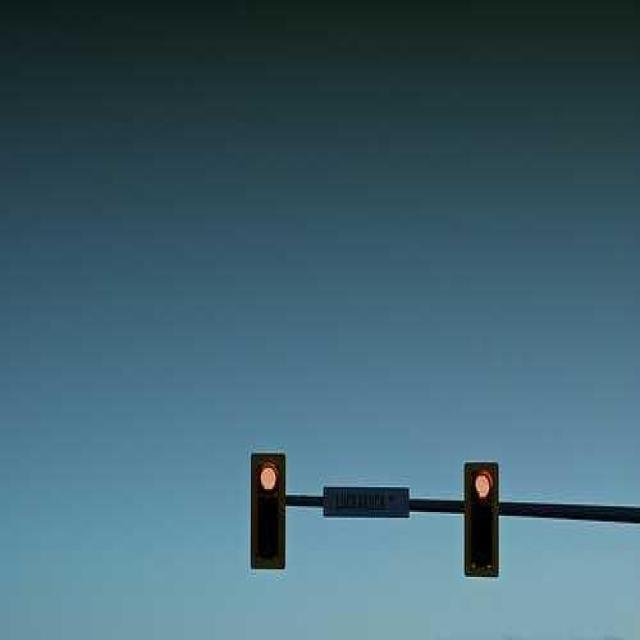Traffic Light -Red-: (249, 450, 289, 573), (465, 460, 499, 575)
